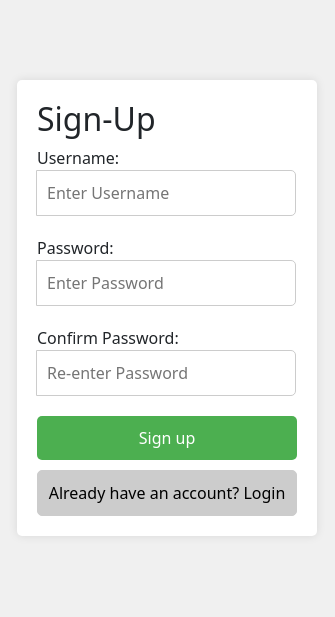
Test: Signup Component Tests › displays validation errors when fields are empty
Click the button "Sign up" at (167, 438), box [37,416,297,460]
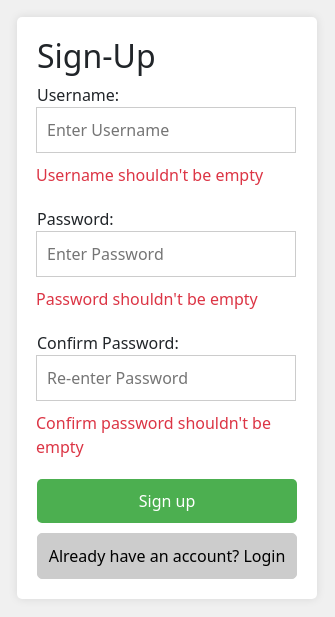
Expected: the text "Username shouldn't be empty" is shown, [36,153,263,187]
Expected: the text "Password shouldn't be empty" is shown, [36,277,258,311]
Expected: the text "Confirm password shouldn't be empty" is shown, [36,401,297,459]
